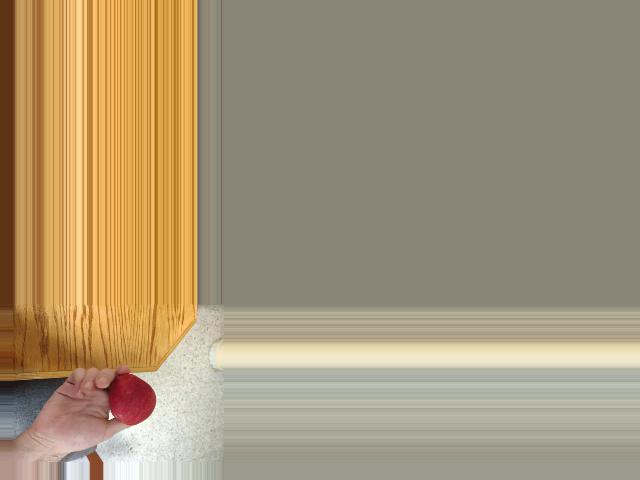apple: (102, 373, 157, 429)
